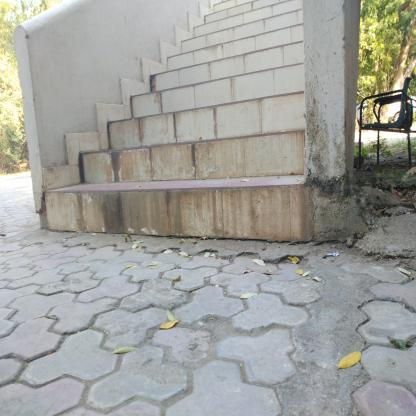stairs: (181, 39, 306, 266)
